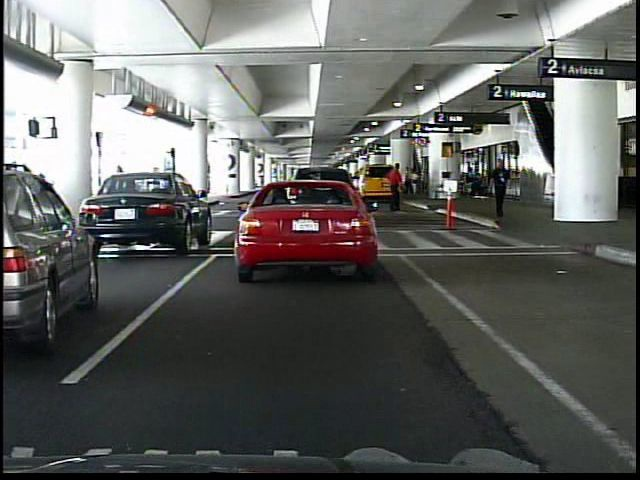person: (109, 162, 139, 237), (492, 156, 513, 221), (386, 163, 404, 216), (404, 164, 417, 200)
